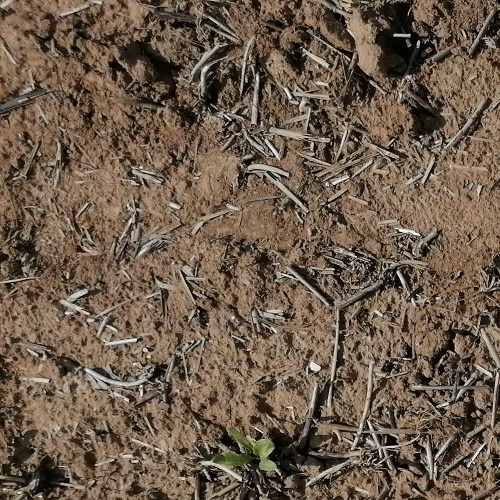beet: (210, 427, 283, 479)
